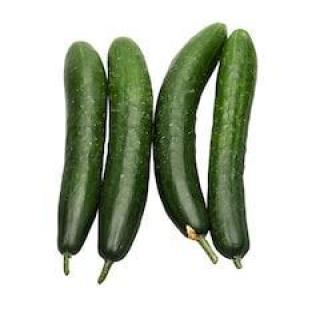Zucchini: (155, 23, 226, 262), (99, 38, 153, 283), (208, 30, 257, 267), (58, 42, 106, 274)
